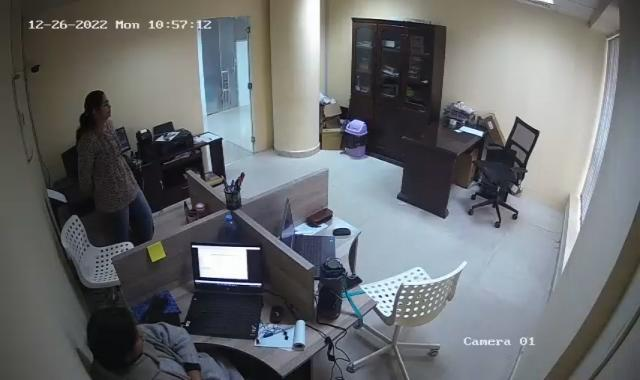no_hairnet: (85, 304, 146, 364), (84, 90, 114, 127)
